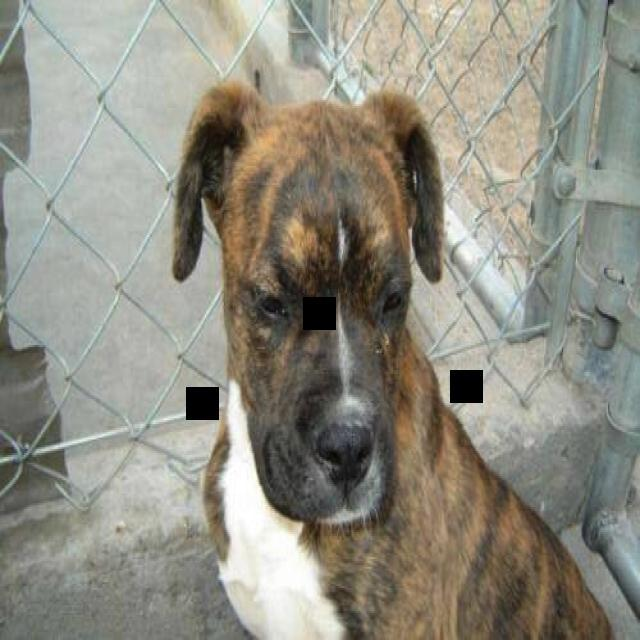adult_dog: (156, 75, 616, 640)
